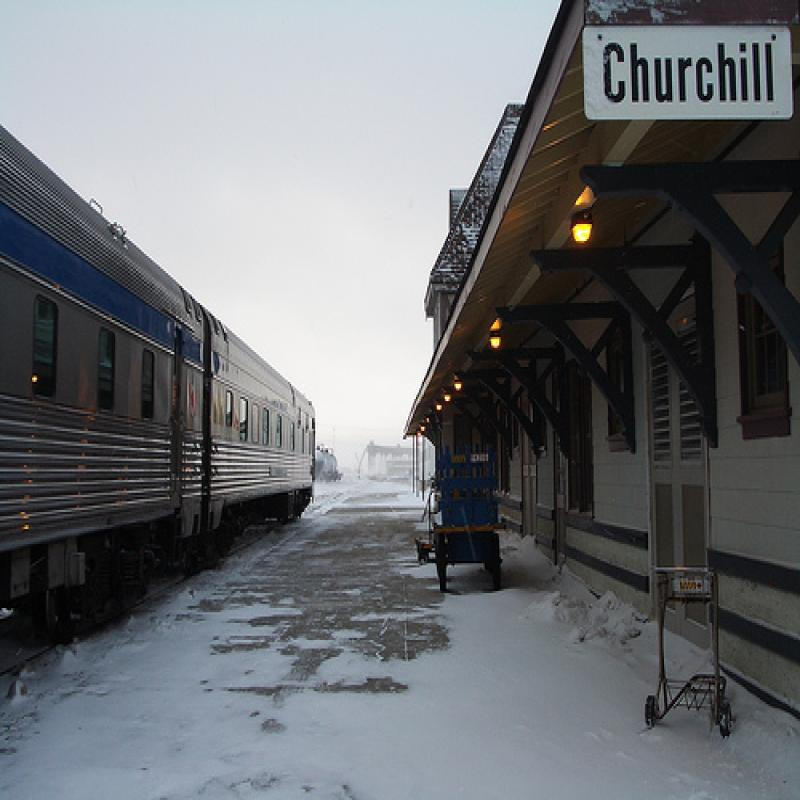train: (1, 123, 318, 645), (313, 443, 345, 485)
